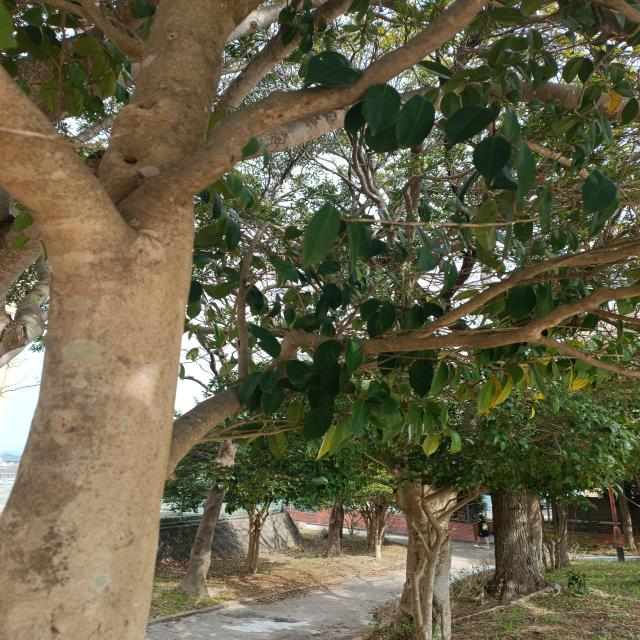Branch: (139, 0, 474, 204), (173, 352, 362, 469), (0, 53, 120, 229)
Twig: (275, 282, 638, 362), (404, 241, 630, 333), (534, 337, 640, 375)
